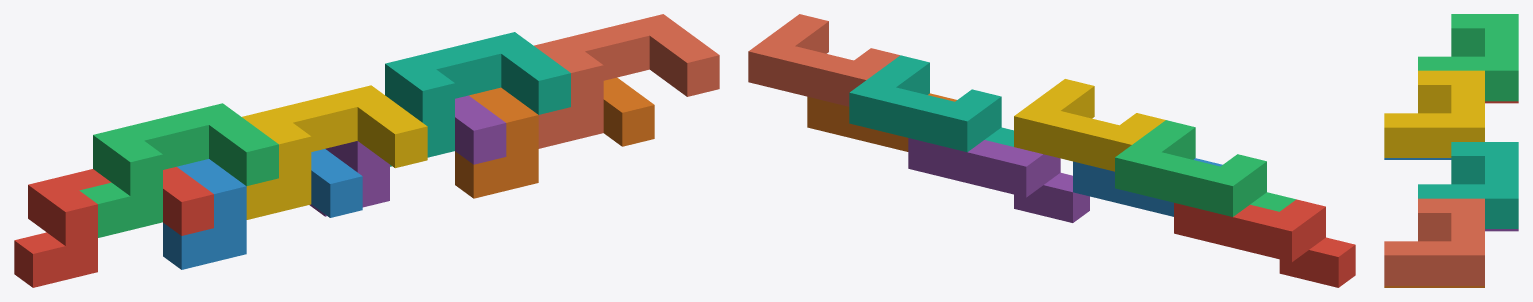
Rendered from tiling.obj.
3 renders of one model, left to right at view 1: azimuth 30°, elevation 25°; view 2: azimuth 150°, elevation 25°; view 3: azimuth 270°, elevation 25°, orthographic. The views are drawn at different scales.
Parts seen in each view (by area): view 1: copy_1_domain_3, copy_1_domain_4, copy_1_domain_8, copy_1_domain_7, copy_1_domain_1, copy_1_domain_6, copy_1_domain_2, copy_1_domain_5; view 2: copy_1_domain_3, copy_1_domain_7, copy_1_domain_1, copy_1_domain_5, copy_1_domain_8, copy_1_domain_4, copy_1_domain_6, copy_1_domain_2; view 3: copy_1_domain_8, copy_1_domain_4, copy_1_domain_3, copy_1_domain_7, copy_1_domain_6, copy_1_domain_2, copy_1_domain_1, copy_1_domain_5.
Part boxes in pixels (bbox=[...]): copy_1_domain_3: bbox=[79, 103, 278, 237]; copy_1_domain_4: bbox=[242, 85, 427, 219]; copy_1_domain_8: bbox=[534, 14, 719, 148]; copy_1_domain_7: bbox=[385, 32, 570, 166]; copy_1_domain_1: bbox=[14, 167, 213, 287]; copy_1_domain_6: bbox=[455, 77, 654, 198]; copy_1_domain_2: bbox=[163, 149, 362, 269]; copy_1_domain_5: bbox=[309, 95, 506, 216]; copy_1_domain_3: bbox=[1115, 120, 1295, 216]; copy_1_domain_7: bbox=[849, 55, 1013, 152]; copy_1_domain_1: bbox=[1174, 199, 1355, 287]; copy_1_domain_5: bbox=[908, 138, 1089, 222]; copy_1_domain_8: bbox=[748, 14, 899, 106]; copy_1_domain_4: bbox=[1014, 79, 1165, 171]; copy_1_domain_6: bbox=[807, 93, 956, 151]; copy_1_domain_2: bbox=[1073, 158, 1222, 216]; copy_1_domain_8: bbox=[1384, 198, 1484, 285]; copy_1_domain_4: bbox=[1384, 70, 1484, 157]; copy_1_domain_3: bbox=[1418, 14, 1518, 101]; copy_1_domain_7: bbox=[1418, 142, 1518, 228]; copy_1_domain_6: bbox=[1384, 286, 1484, 287]; copy_1_domain_2: bbox=[1384, 158, 1451, 159]; copy_1_domain_1: bbox=[1485, 101, 1518, 103]; copy_1_domain_5: bbox=[1485, 229, 1518, 231].
Bounding box in the file's own units: 20 × 3 × 4.
